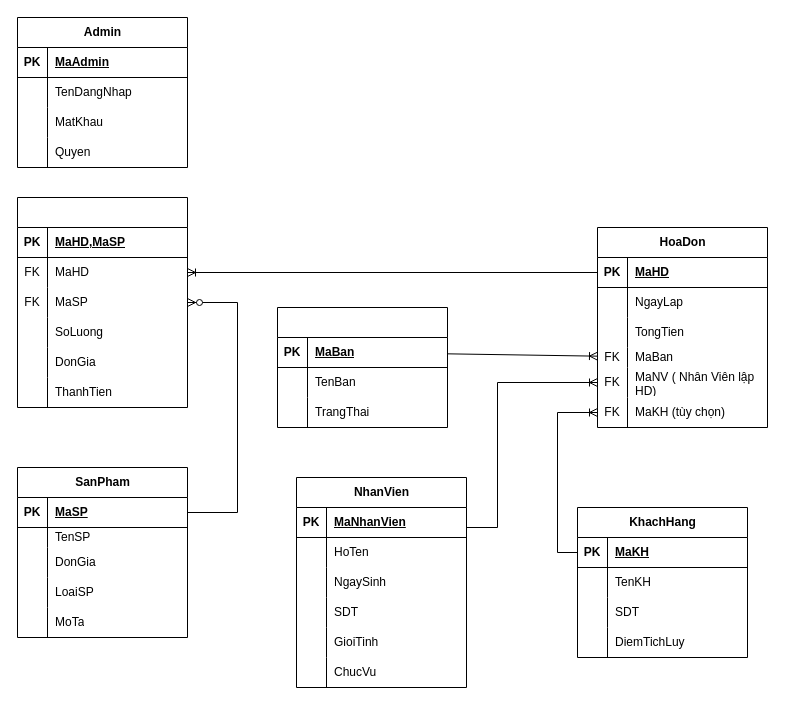
This 785x705 diagram has some shape labels left out. The box of each missing label's shape, as (x1, y1, x2, y2) in pixels:
CTHoaDon: (16, 196, 188, 408)
Table: (276, 306, 448, 428)
